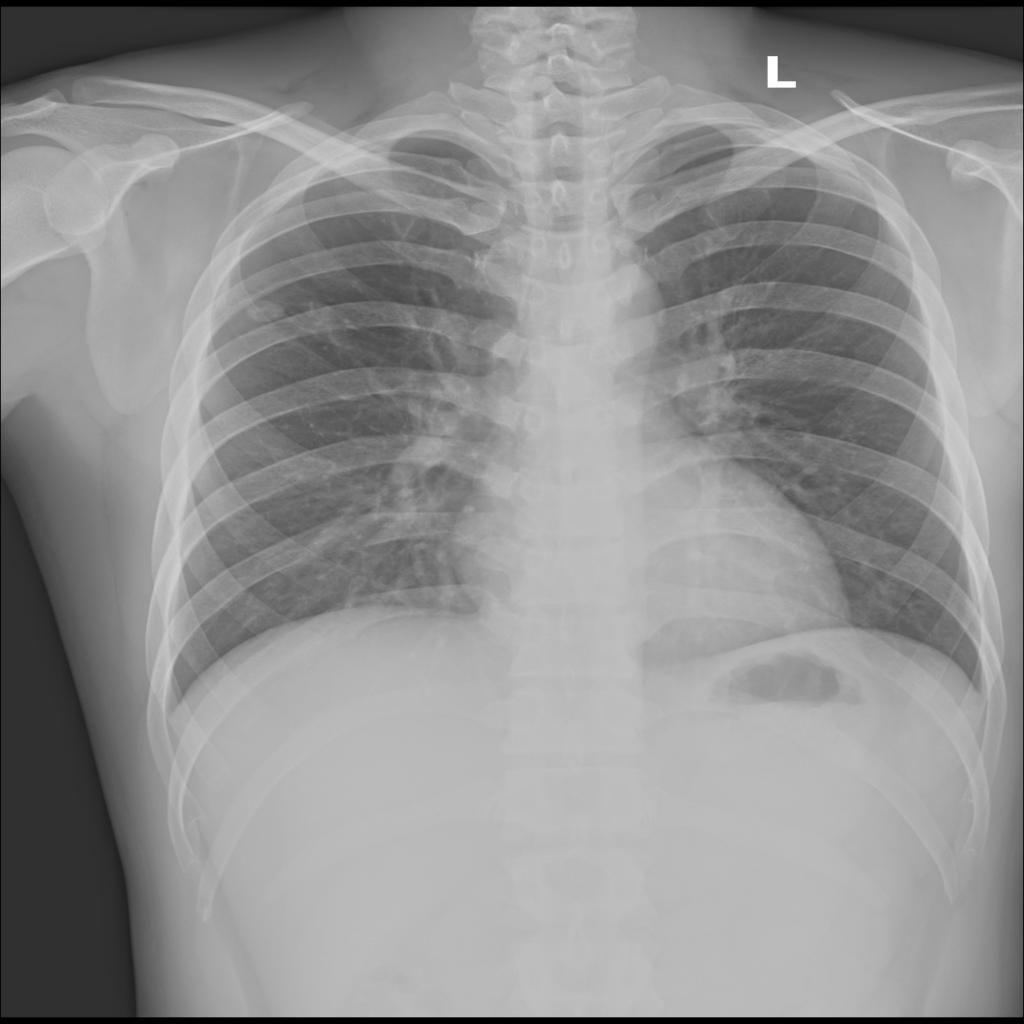Nodule: (250, 300, 286, 324)
